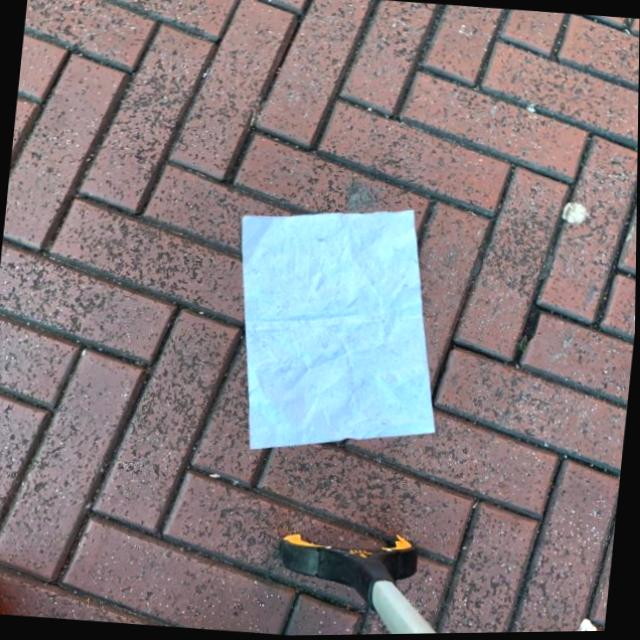Paper: (216, 193, 460, 468)
